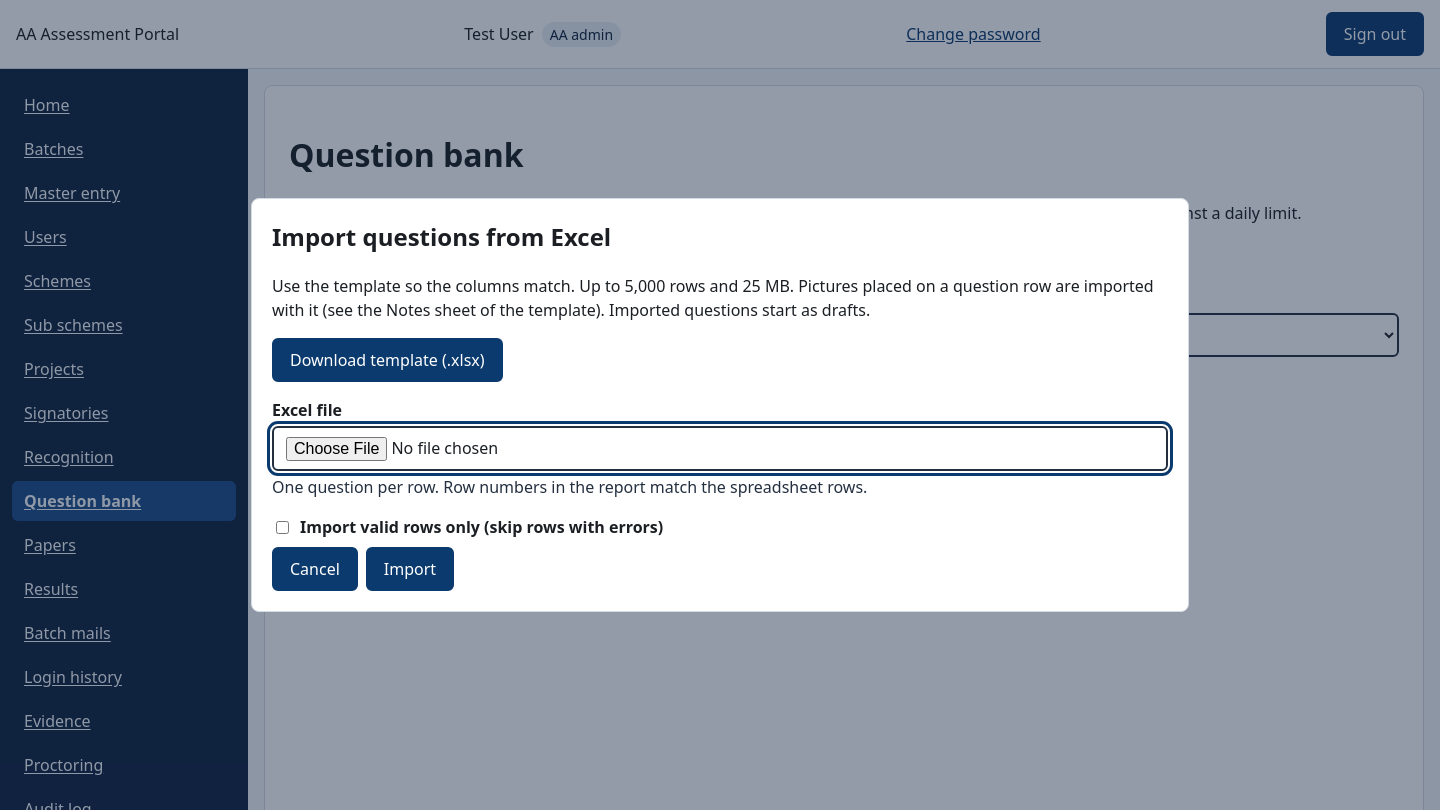
Test case: refuses a file that is not .xlsx before sending it
Earlier steps of the test are not shown.
Click the button "Import".
click(410, 570)  # box [366,548,454,592]
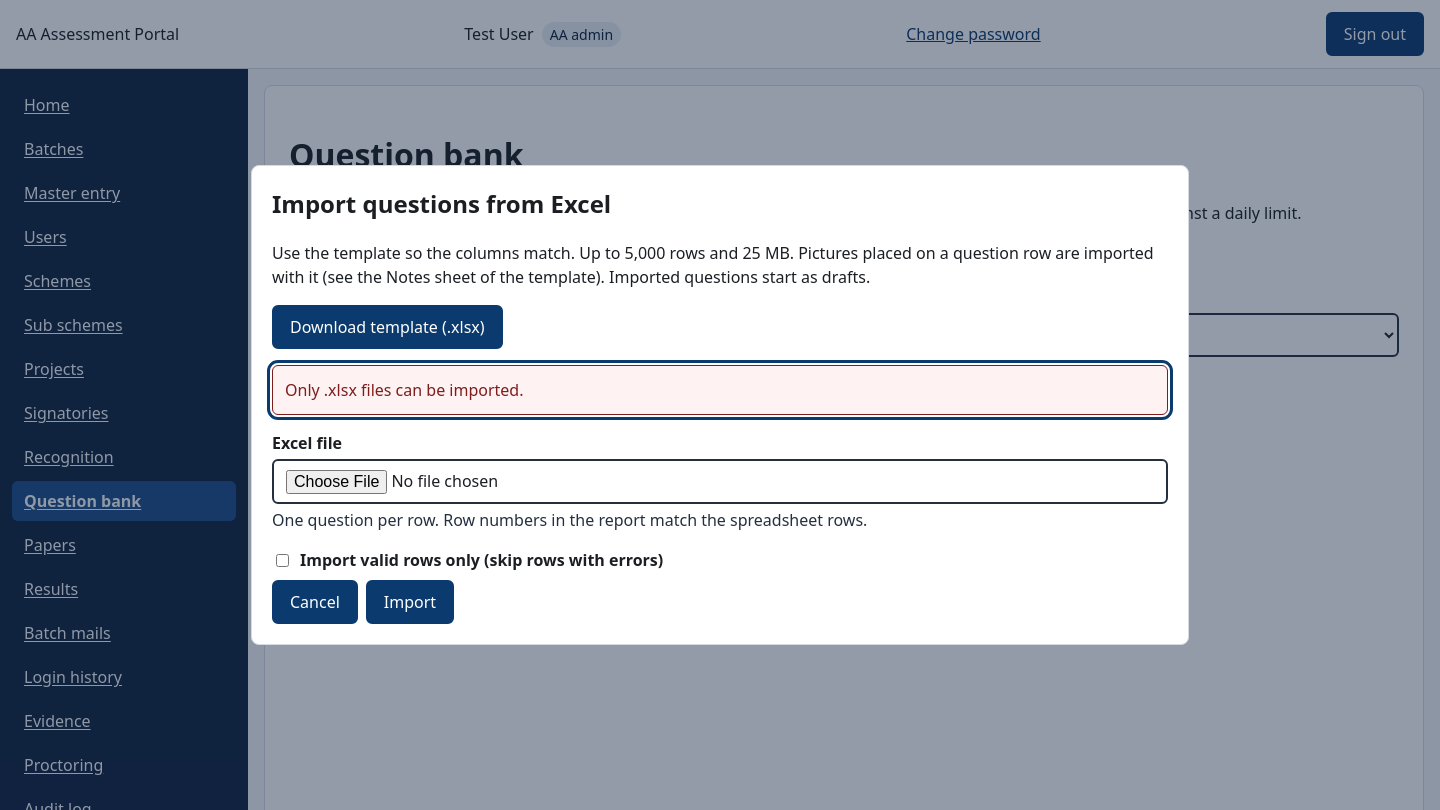
Now the message reads "Only .xlsx files can be imported.", box [285,380,524,402]
